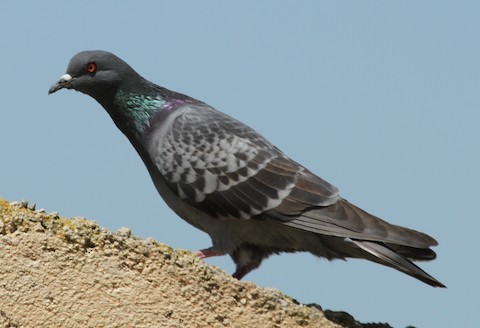pigeon: (44, 47, 451, 297)
